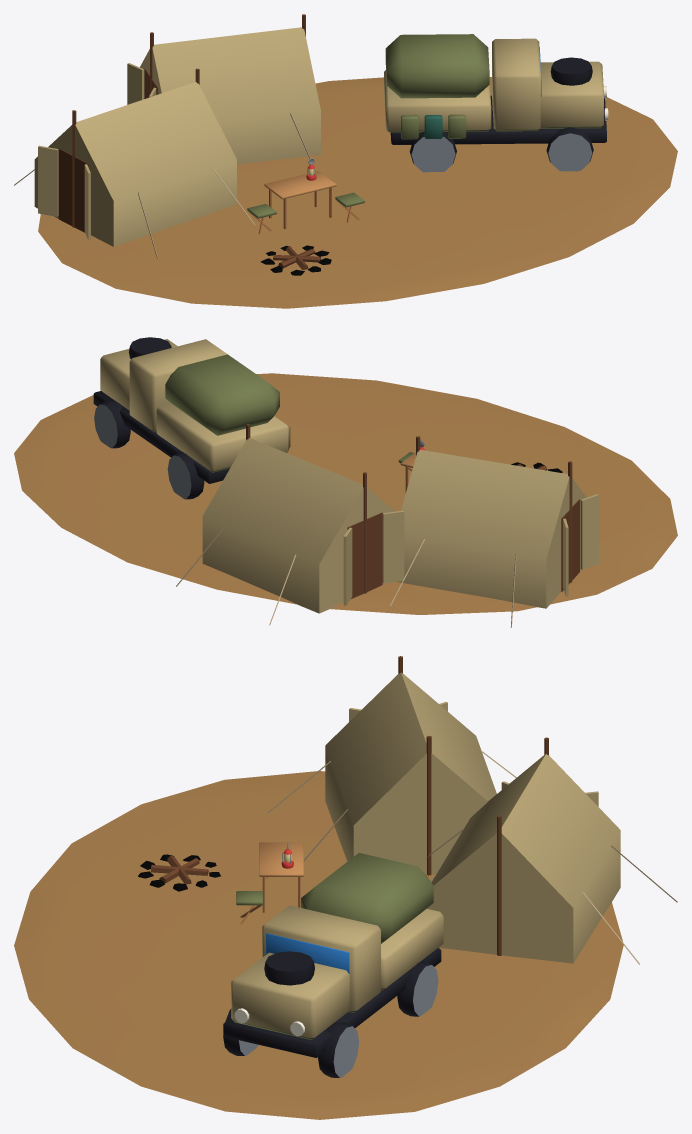
Rendered from SafariCamp.fbx.
3 views of the same model, one above another, from view 1: azimuth 30°, elevation 25°; view 2: azimuth 150°, elevation 25°; view 3: azimuth 270°, elevation 25° (orthographic). The views are drawn at different scales.
Visible parts, largest first — view 1: SafariCamp; view 2: SafariCamp; view 3: SafariCamp.
Part boxes in pixels (box(x1,y1,x2,y2)): SafariCamp: box(14, 14, 677, 308); SafariCamp: box(14, 337, 677, 627); SafariCamp: box(14, 656, 677, 1119).
Bounding box in the file's own units: 12.97 × 2.48 × 10.44.
2 materials, 2 textured.
